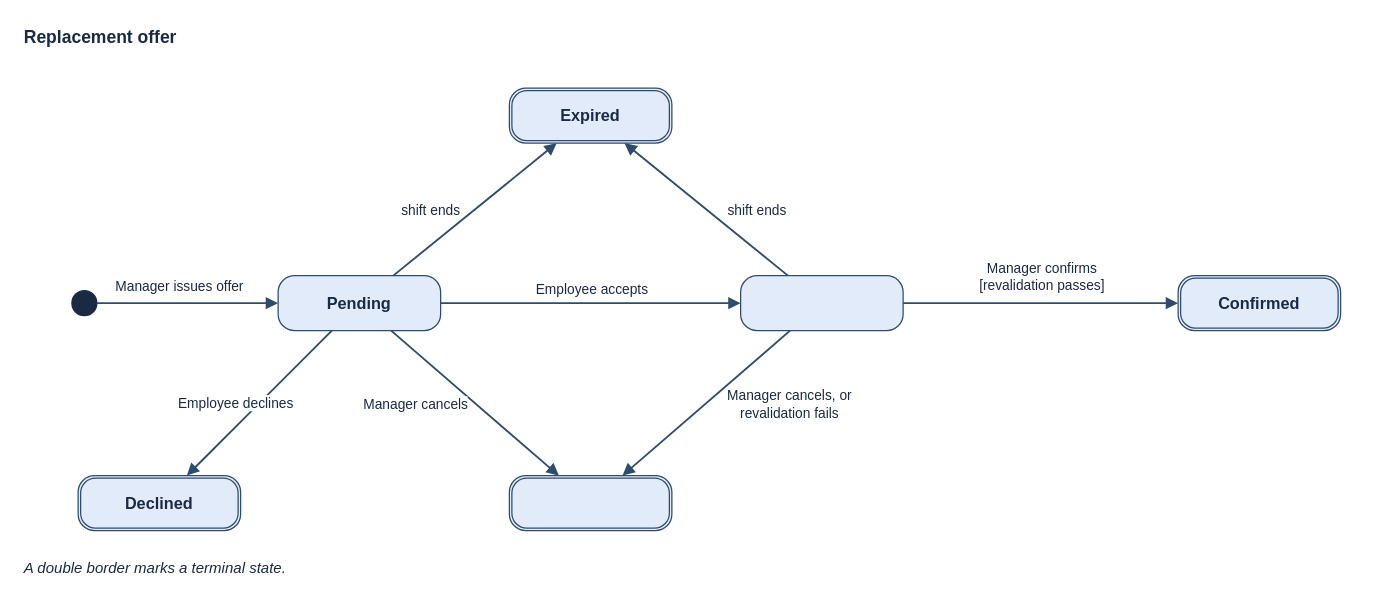
The diagram is 1393 pixels wide and 603 high, and some of its shapes have lost their labels. The shapes that lost their labels are listed below. From the top down, each one's centre as x and y in pixels, then its label:
pixel 821 302: Accepted
pixel 590 502: Cancelled
